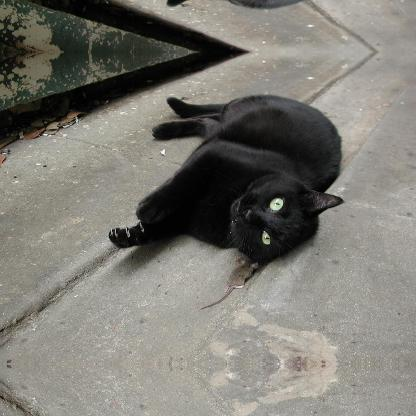Cat: (109, 90, 343, 270)
